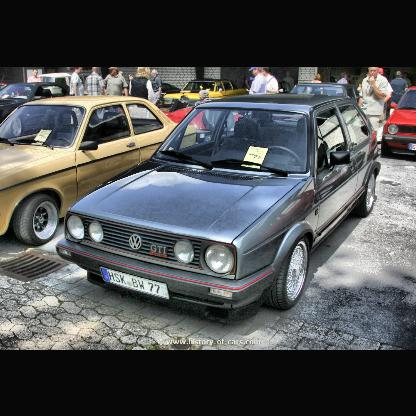Volkswagen Golf Hatchback 1991: (57, 92, 384, 320)
